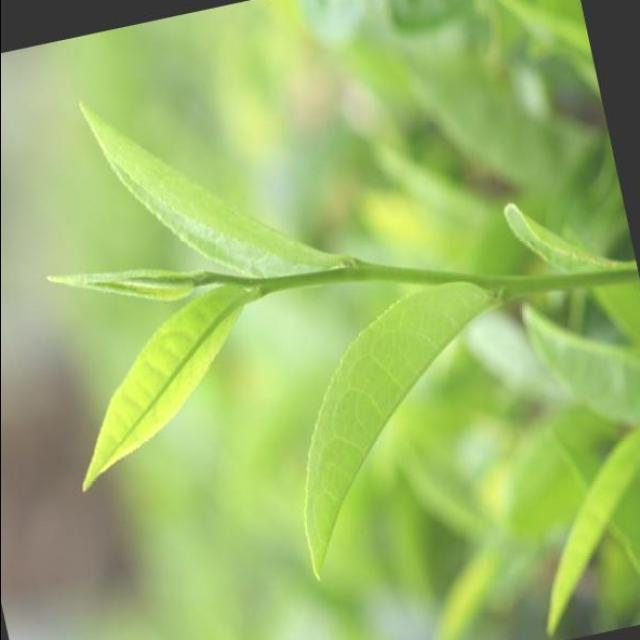Stem: (256, 278, 281, 297)
